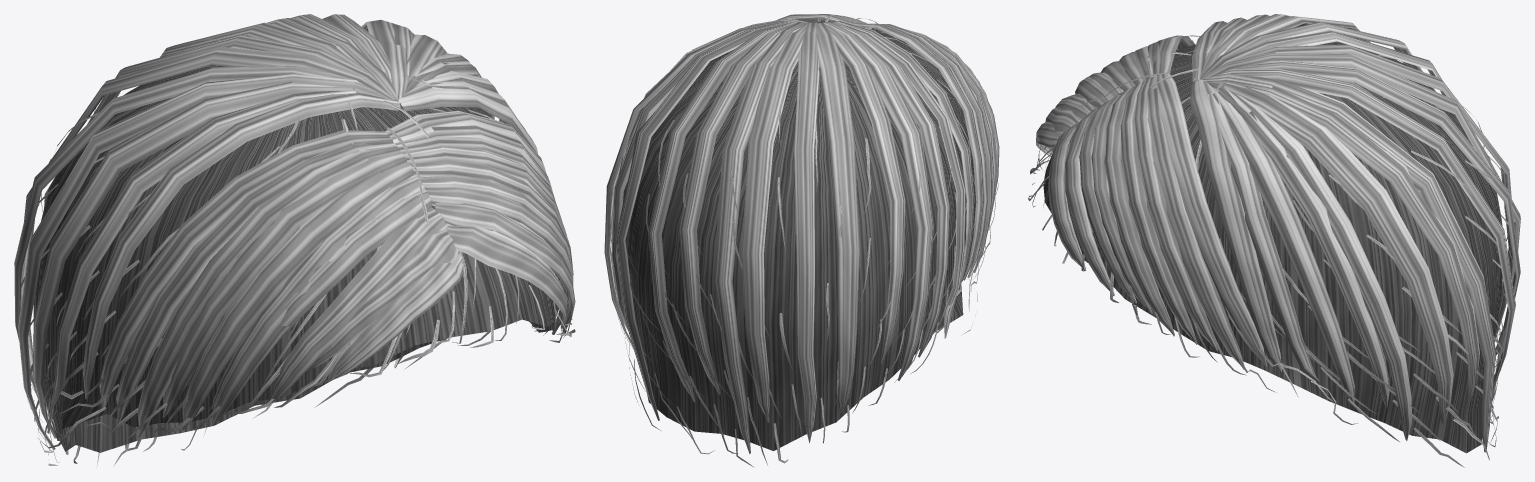
Rendered from unified_m_pixie.glb.
3 renders of one model, left to right at view 1: azimuth 30°, elevation 25°; view 2: azimuth 150°, elevation 25°; view 3: azimuth 270°, elevation 25°, orthographic. The views are drawn at different scales.
Parts seen in each view (by area): view 1: Hair_directional_locks, Hair_scalp, Hair_layered_strands; view 2: Hair_directional_locks, Hair_scalp, Hair_layered_strands; view 3: Hair_directional_locks, Hair_scalp, Hair_layered_strands.
Part boxes in pixels (x1,y1,x2,y2): Hair_directional_locks: [14, 14, 575, 454]; Hair_scalp: [33, 65, 556, 452]; Hair_layered_strands: [21, 39, 575, 467]; Hair_directional_locks: [604, 14, 999, 453]; Hair_scalp: [623, 29, 976, 450]; Hair_layered_strands: [609, 14, 998, 467]; Hair_directional_locks: [1036, 14, 1520, 452]; Hair_scalp: [1043, 41, 1502, 453]; Hair_layered_strands: [1028, 26, 1514, 467].
Size of the model in its own units: 0.1022 by 0.1016 by 0.1133.
Materials: 2 (2 with a texture image).
